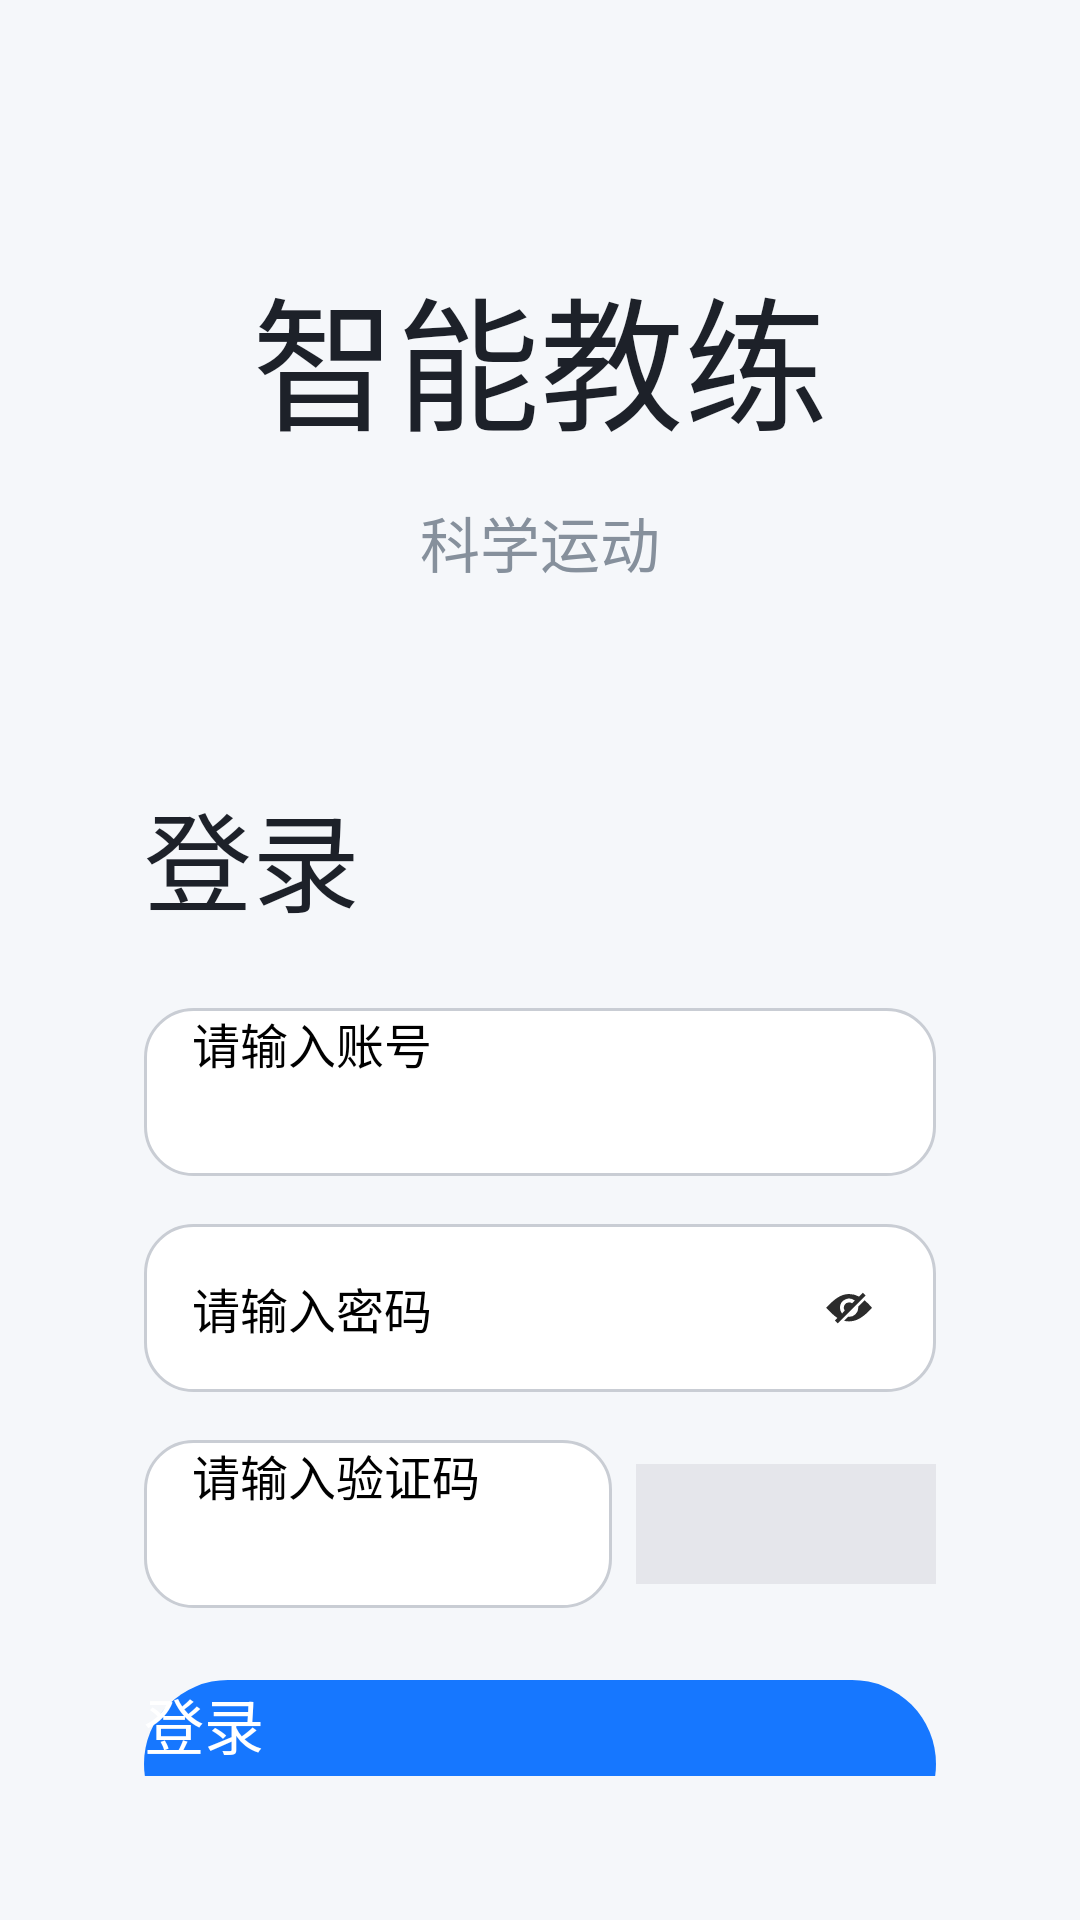

Icons on this 1080 x 1920 Android screen, each with its box as {"x1": x1, "y1": y1, "x2": x2, "y2": y2}:
eye closed: {"x1": 826, "y1": 1293, "x2": 872, "y2": 1324}
